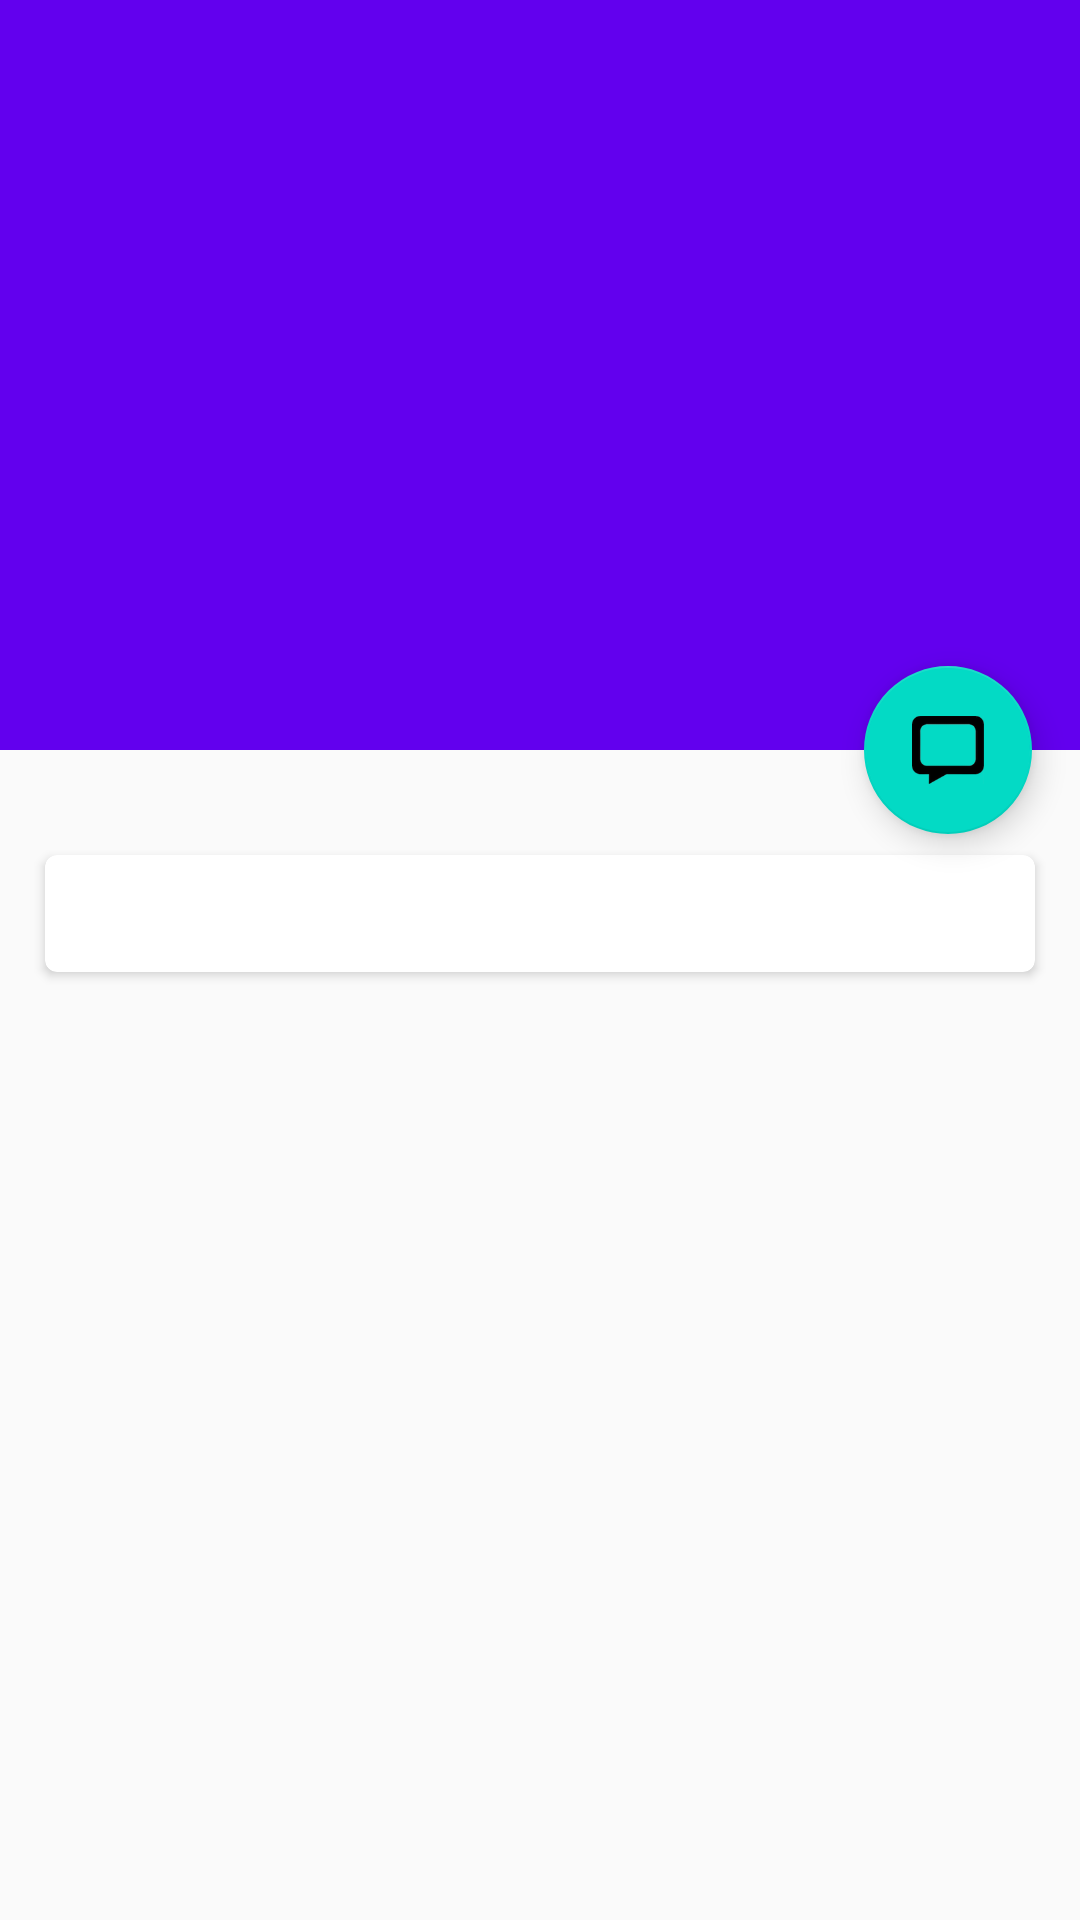

Point at icon controls on the screen. Image size 1080px x 1920px, points as point (x, y).
coment: point (948, 750)
